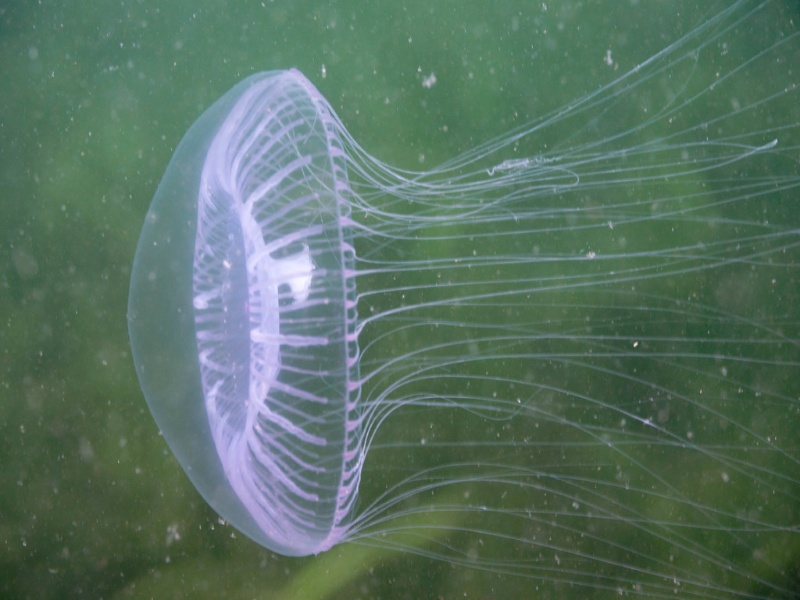Jellyfish: (123, 65, 619, 564)
